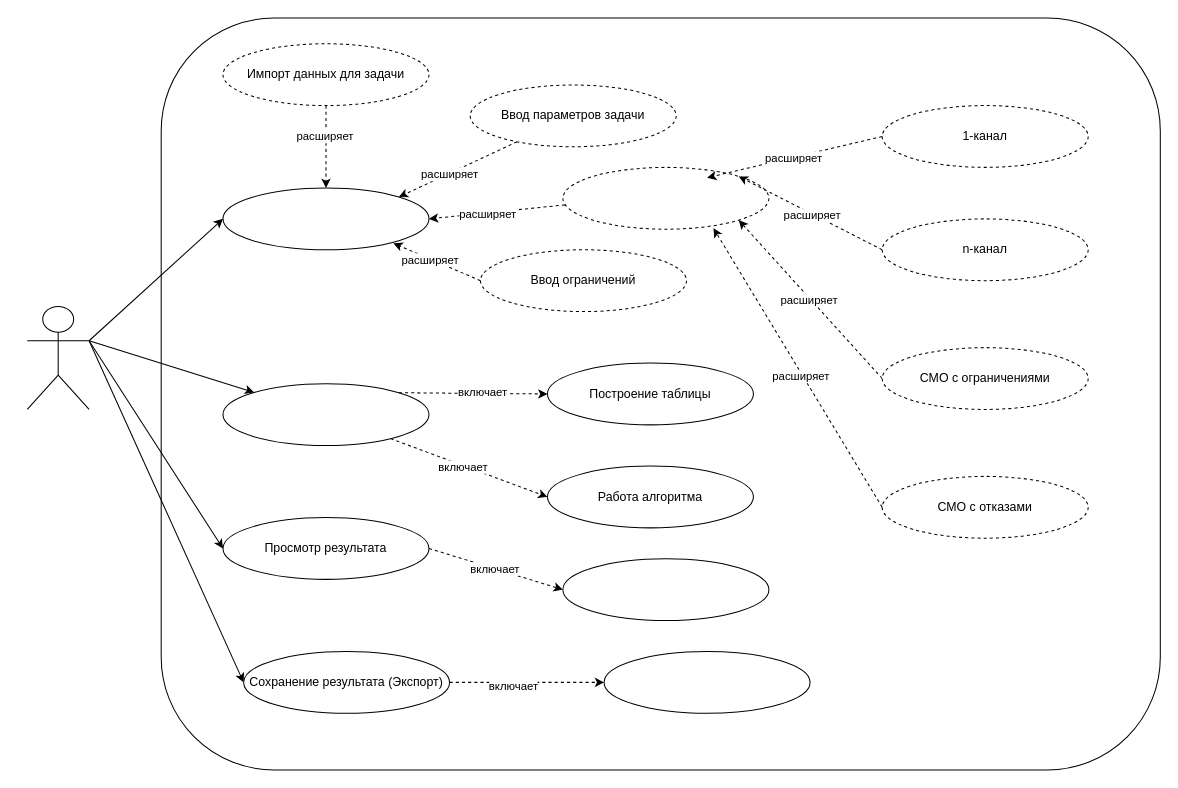
This 1178x788 diagram has some shape labels left out. The centre of each missing label's shape, as x and y in pixels:
Ввод исходных данных: (325,218)
Выбор типа системы: (665,197)
Отображение в UI: (665,589)
Пользователь: (57,357)
Решение задачи: (325,414)
Сохранение в формате txt: (706,681)
